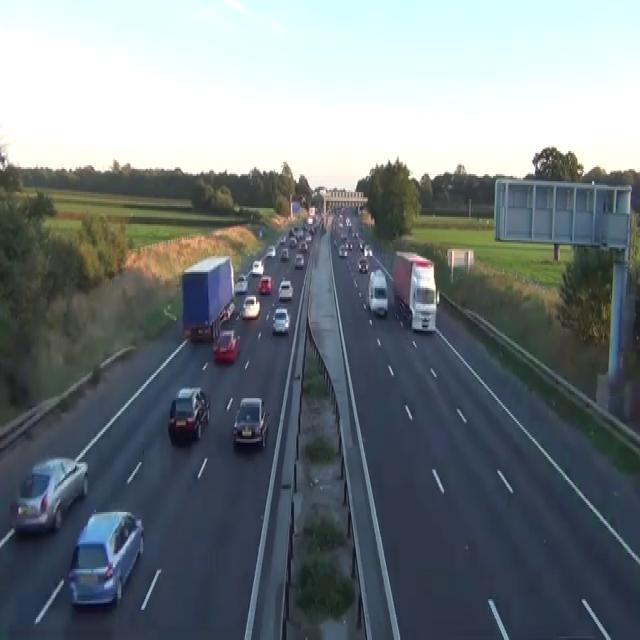Car: (68, 508, 144, 610), (10, 455, 88, 535), (168, 386, 210, 441), (232, 396, 269, 448), (212, 329, 240, 363), (271, 308, 290, 334), (240, 295, 260, 318), (219, 300, 234, 324), (278, 279, 293, 301), (257, 276, 273, 294), (233, 274, 248, 293), (163, 304, 177, 322), (251, 260, 264, 276), (294, 252, 304, 268), (358, 256, 368, 272), (219, 308, 229, 324), (0, 151, 8, 171), (266, 244, 276, 258), (227, 300, 235, 316), (338, 244, 347, 258), (280, 247, 289, 260), (363, 244, 372, 256), (358, 238, 365, 251), (299, 240, 307, 251), (289, 237, 297, 247), (320, 222, 326, 233), (340, 231, 347, 240), (305, 233, 312, 242), (345, 217, 351, 227), (279, 234, 285, 243), (307, 215, 313, 224), (347, 240, 353, 249), (333, 237, 338, 247), (352, 231, 358, 238), (258, 228, 262, 238)
Truck: (181, 255, 235, 342), (392, 249, 439, 332), (367, 268, 388, 316)
